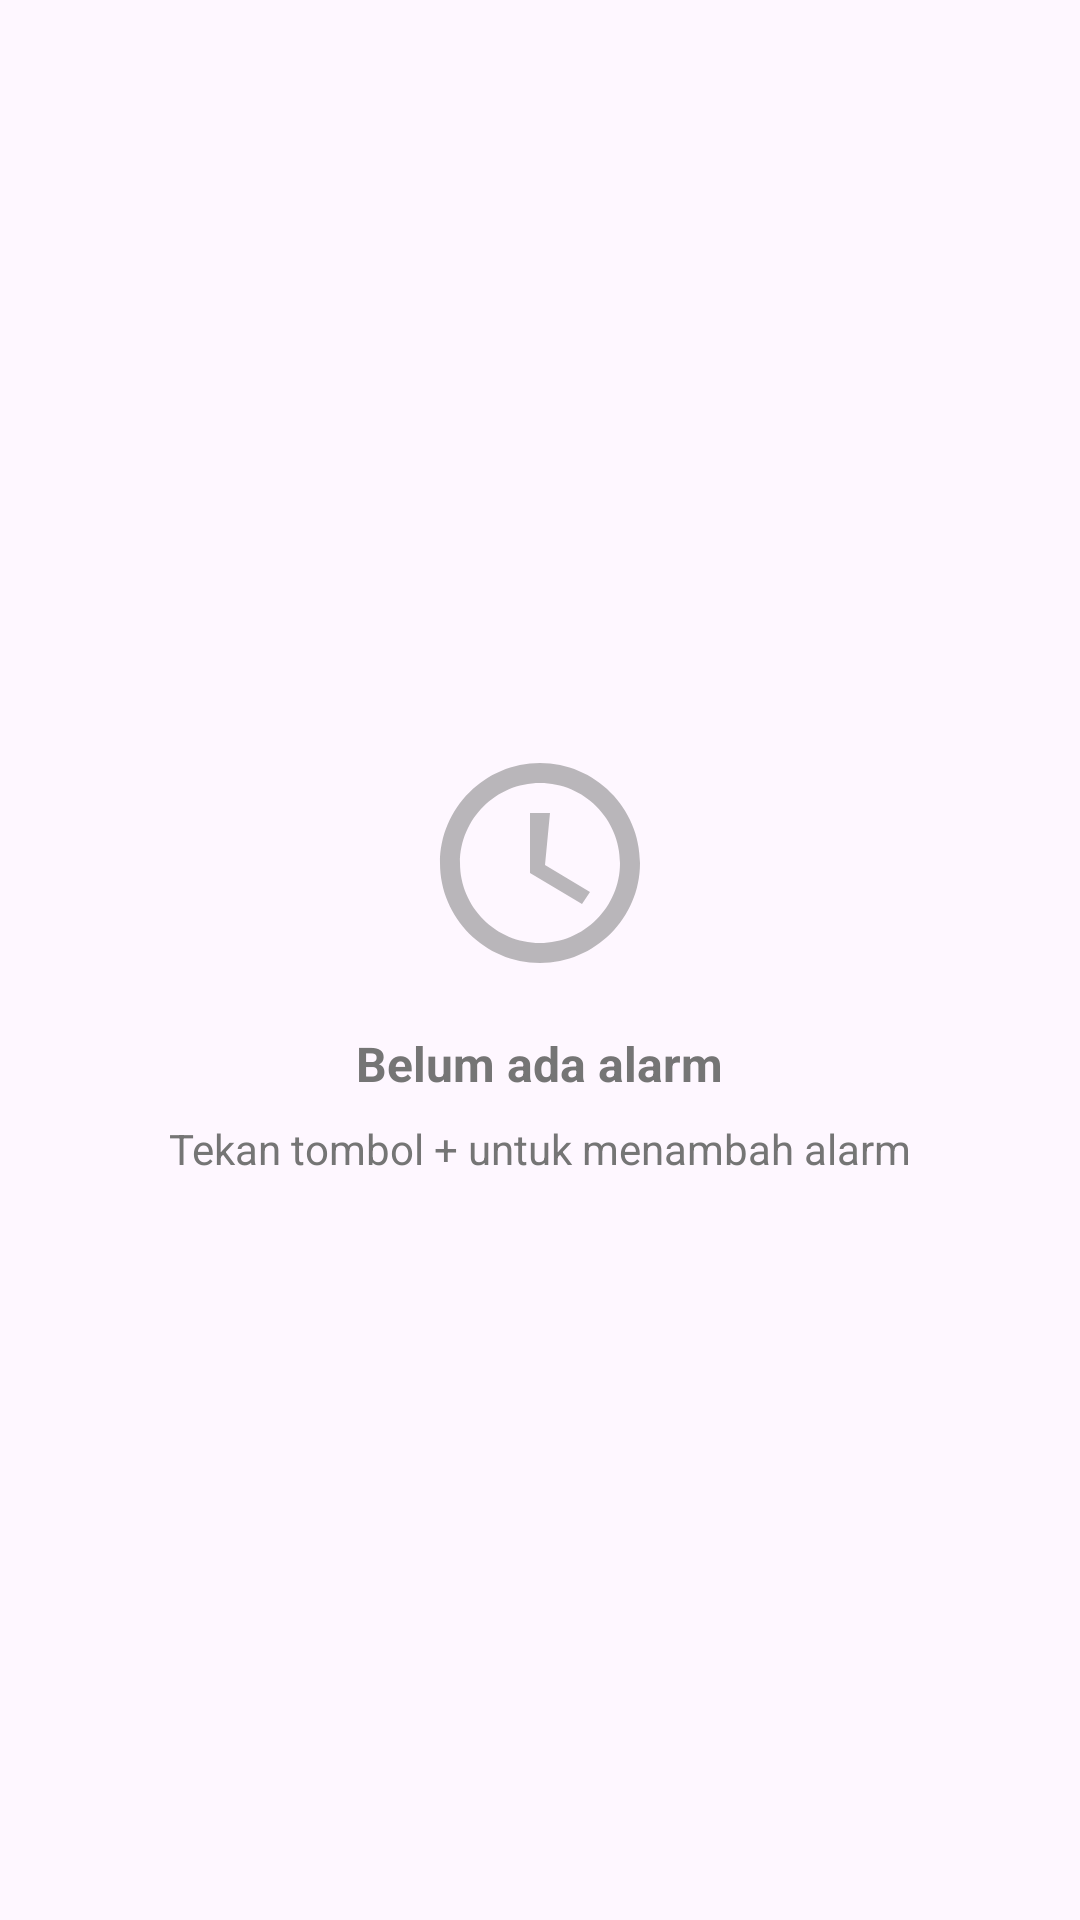

Named icons in this screenshot (1080px×1920px) and their centers, [x,y]:
alarm empty: [540,863]
